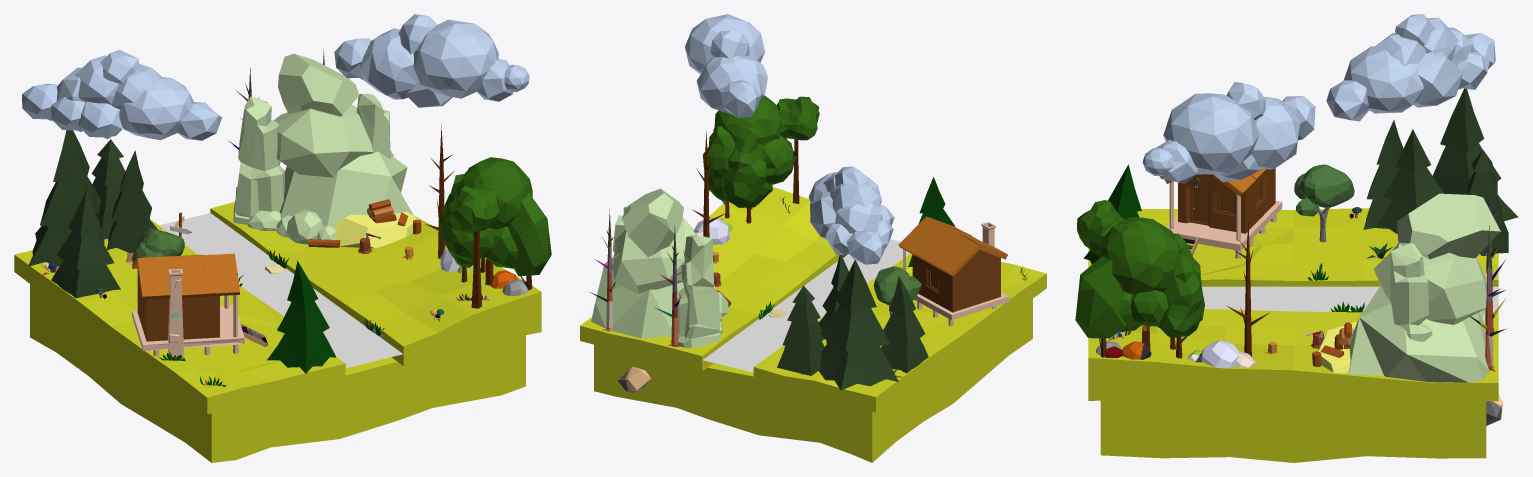
The model's file is road.fbx.
3 views of the same model, side by side, from view 1: azimuth 30°, elevation 25°; view 2: azimuth 150°, elevation 25°; view 3: azimuth 270°, elevation 25° (orthographic). The views are drawn at different scales.
Visible parts, largest first — view 1: Forest, road; view 2: Forest, road; view 3: Forest, road.
Boxes of the visible parts, bbox=[...] form: Forest: bbox=[14, 14, 551, 462]; road: bbox=[159, 213, 402, 367]; Forest: bbox=[580, 14, 1046, 462]; road: bbox=[703, 239, 910, 372]; Forest: bbox=[1075, 14, 1518, 462]; road: bbox=[1202, 286, 1498, 312].
Size of the model in its own units: 15985 by 14153 by 15845.
2 materials, 1 textured.
